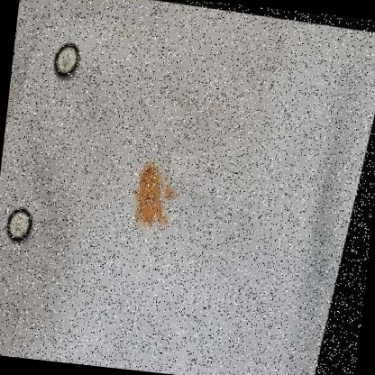kimchi: (123, 153, 193, 235)
